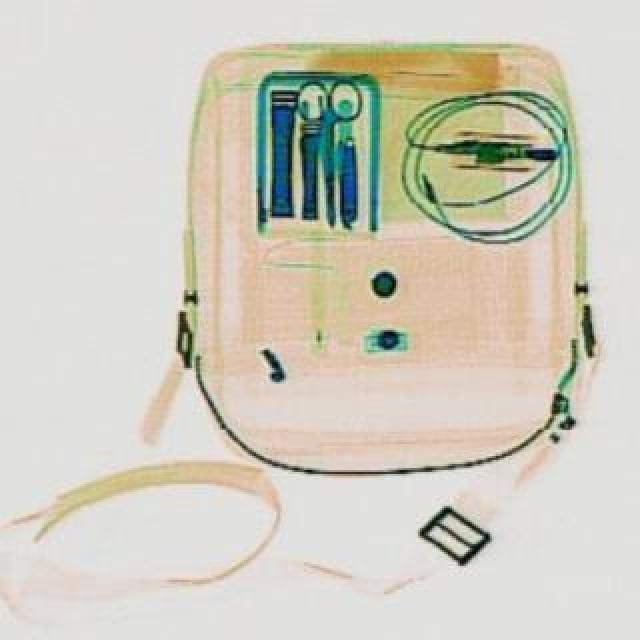pliers: (290, 76, 364, 226)
